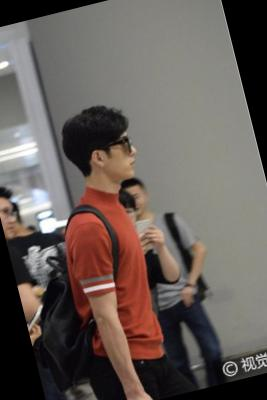without_mask: (97, 132, 145, 188), (123, 190, 152, 220)
